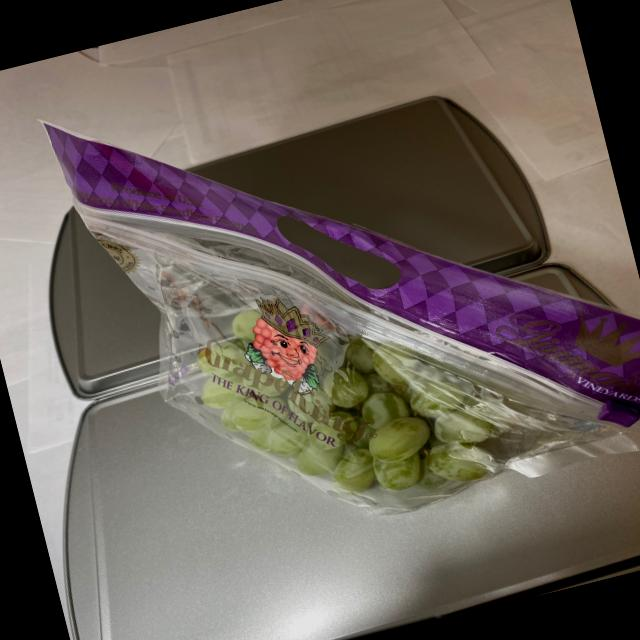grapes: (179, 240, 526, 558)
